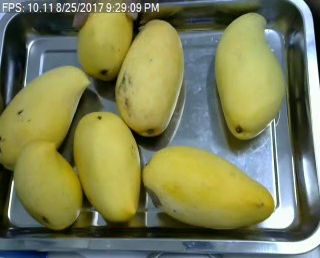Mango: (141, 145, 275, 231), (0, 65, 89, 174), (215, 11, 285, 140), (114, 20, 185, 136), (74, 110, 141, 222), (12, 140, 83, 229), (77, 2, 134, 81)
